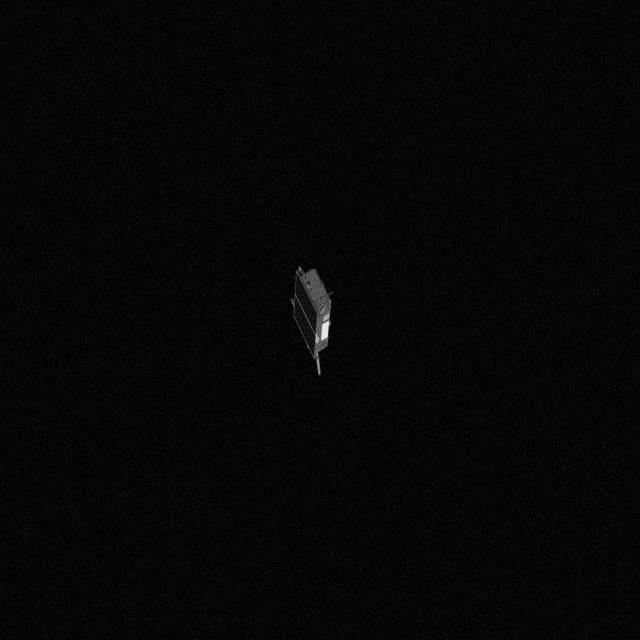medium_debris: (288, 264, 348, 378)
